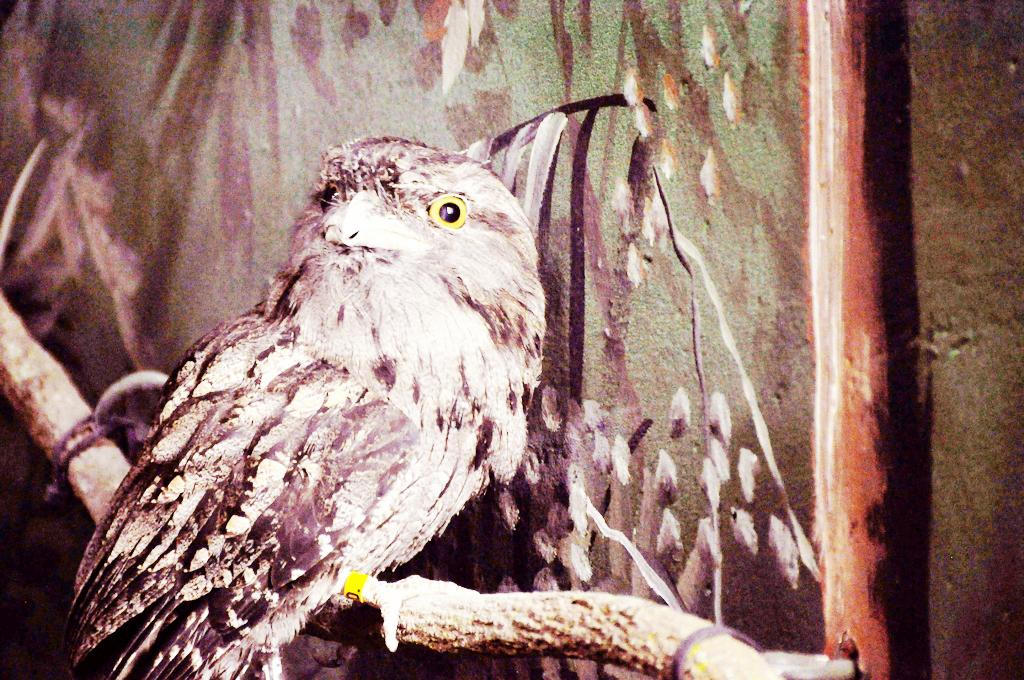Owl: (64, 132, 550, 679)
